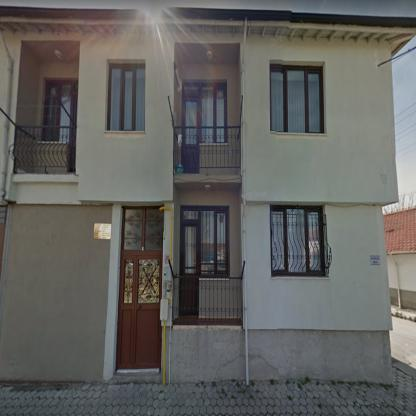door: (115, 250, 162, 367), (179, 224, 199, 316), (183, 98, 199, 172), (70, 95, 77, 170)
window: (271, 204, 325, 275), (270, 66, 324, 133), (181, 207, 228, 274), (182, 83, 227, 141), (108, 65, 144, 131), (42, 80, 77, 141), (121, 206, 163, 250)
